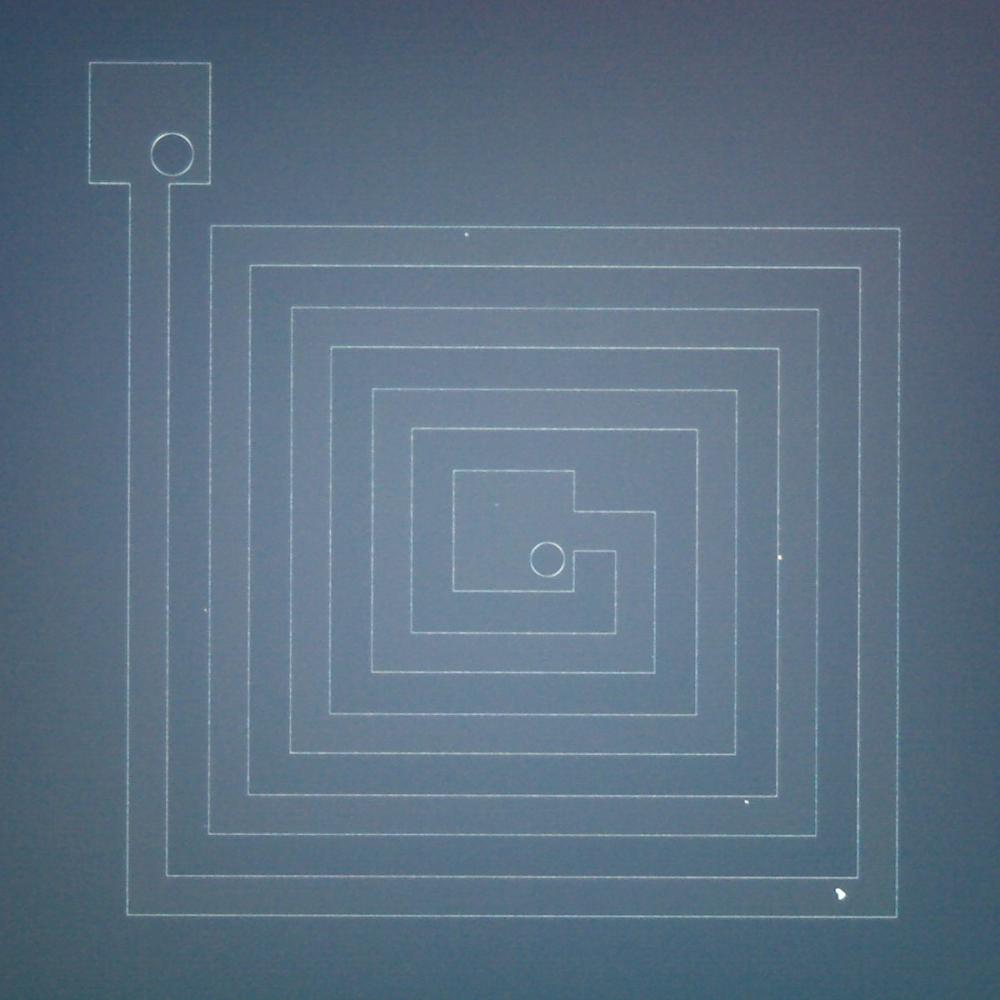dot: (835, 887, 847, 900), (464, 232, 470, 237), (744, 800, 749, 805), (778, 554, 782, 560)
